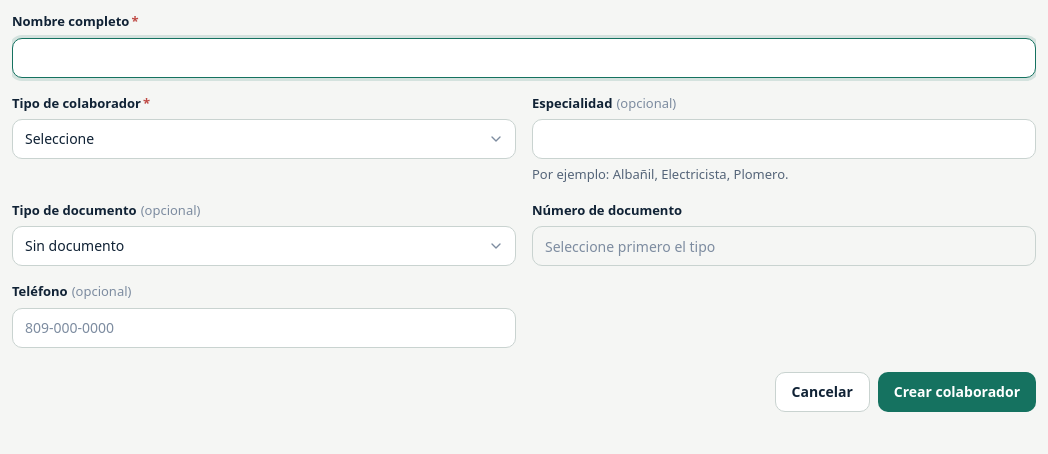
Test: ContractorForm › validates the cédula
Type "Juan Pérez" into the field labelled "Nombre completo*". click: (524, 58)
box: [12, 38, 1036, 78]
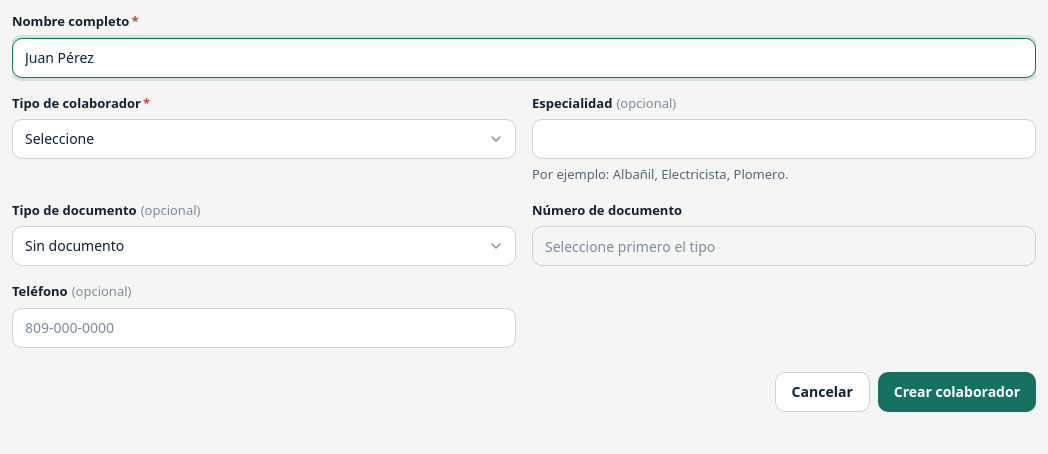
Select "Contratista" in the dropdown labelled "Tipo de colaborador*". click: (264, 139)
box: [12, 119, 516, 159]
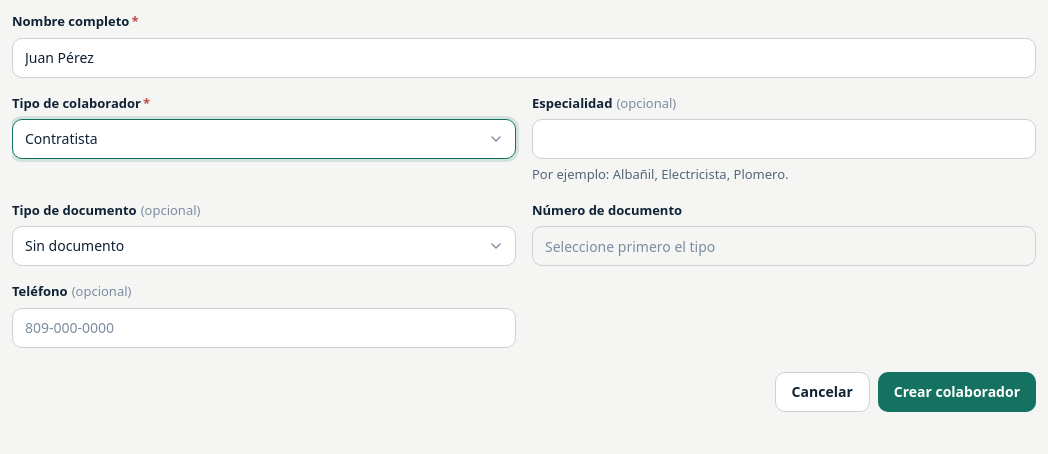
Select "Cédula" in the dropdown labelled "Tipo de documento(opcional)". click: (264, 246)
box: [12, 226, 516, 266]
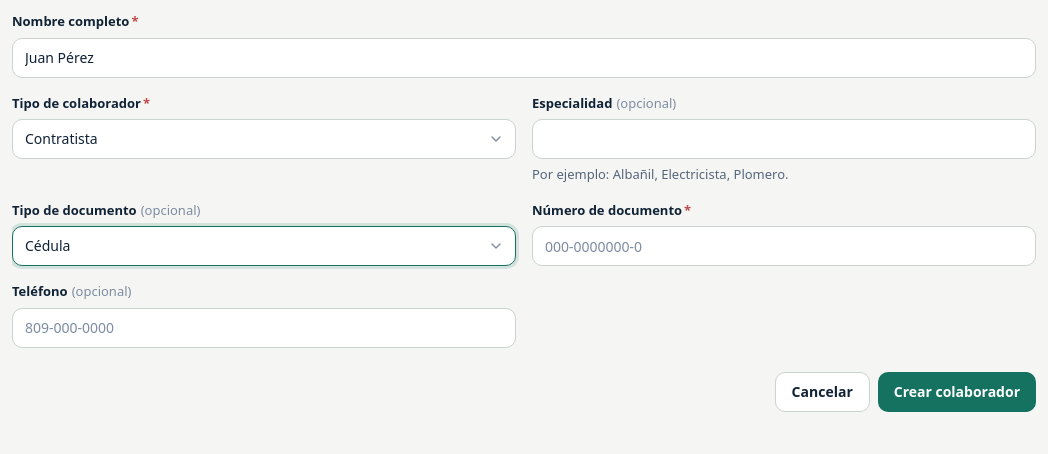
Type "001-0000001-8" into the field labelled "Número de documento*". click: (784, 246)
box: [532, 226, 1036, 266]
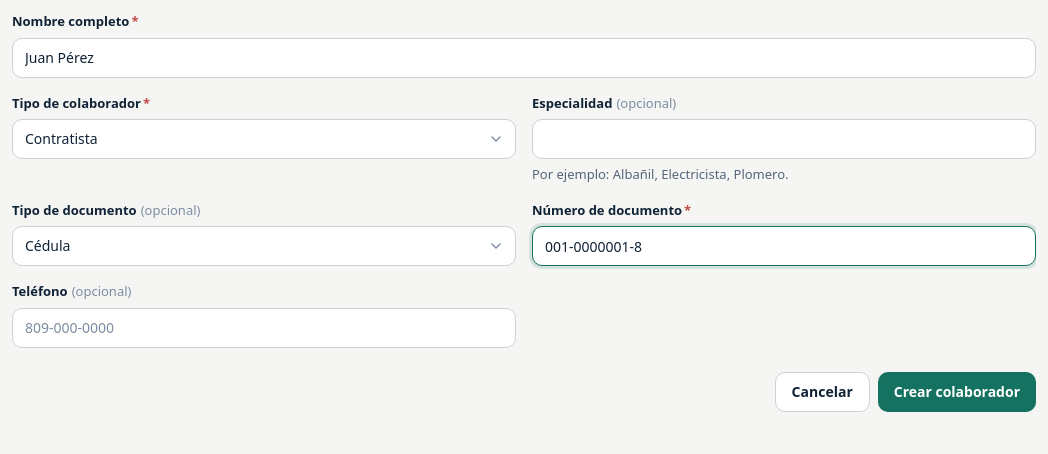
Click the button "Crear colaborador". click: (957, 392)
box: [878, 372, 1036, 412]
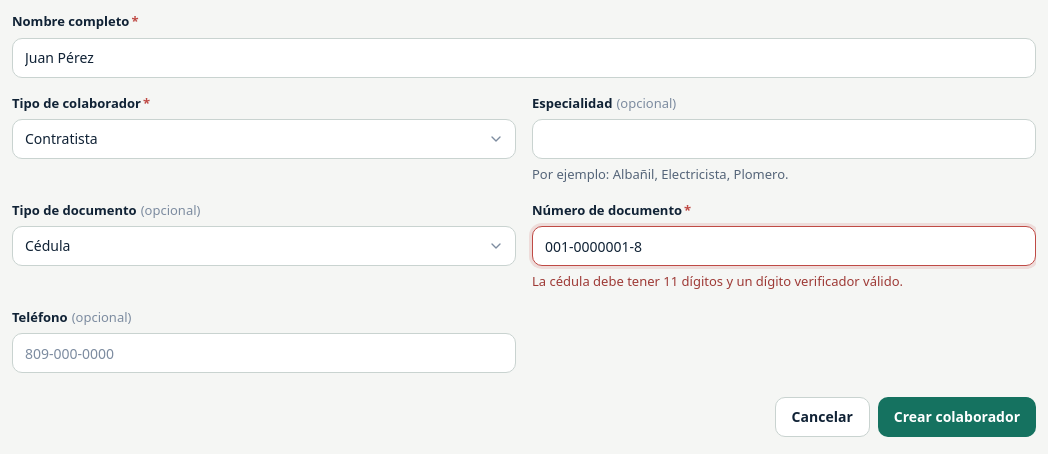
expect the text "La cédula debe tener 11 dígitos y un dígito verificador válido." is shown: met, box [532, 272, 903, 290]
